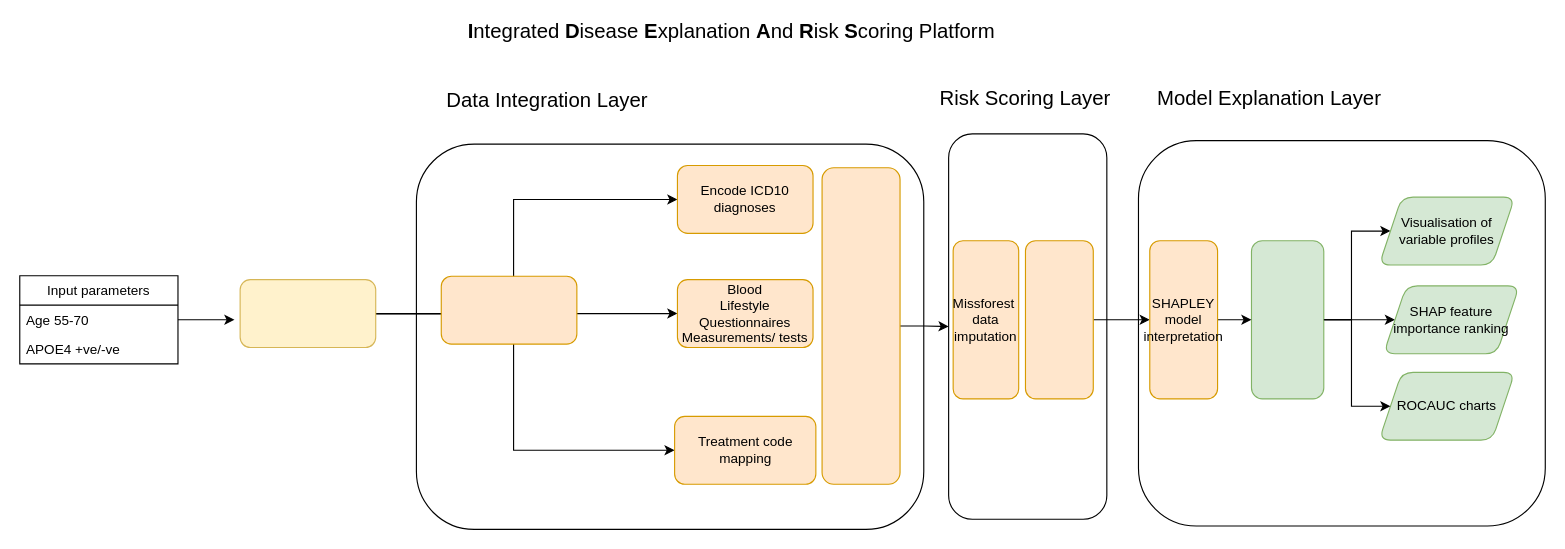
This 1565x549 diagram has some shape labels left out. The centre of each missing label's shape, as x and y in pixels:
Data Merge and Feature Engineering Ordinal Continuous One hot encoding: the point at 860,325
Gradient Boosting 3 fold cross validation: the point at 1058,319
Input age ranges, disease parameters and filters: the point at 307,313
Top n risk factors Benchmark to known meta-analyses: the point at 1287,319
UKB longitudinal datafile: the point at 508,309
